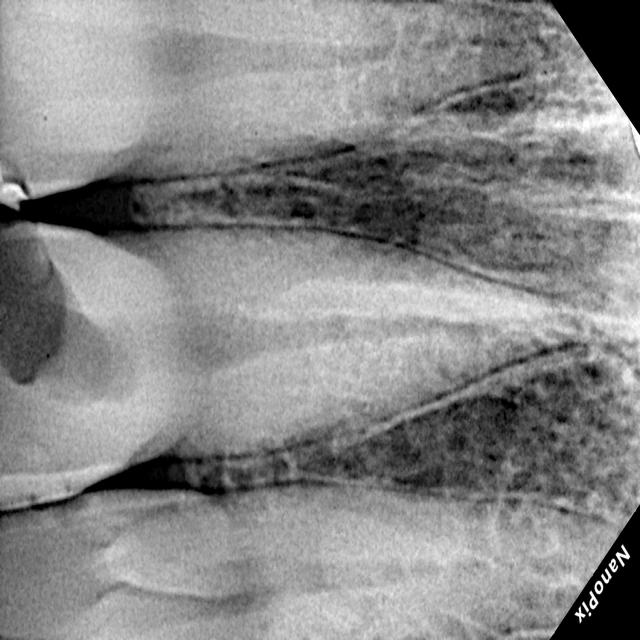karies: (0, 227, 75, 411), (0, 159, 39, 222)
